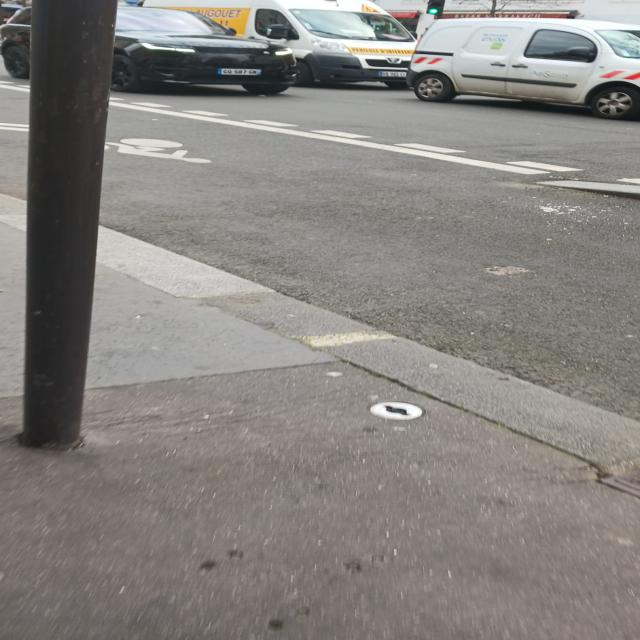Autre: (214, 65, 275, 80)
